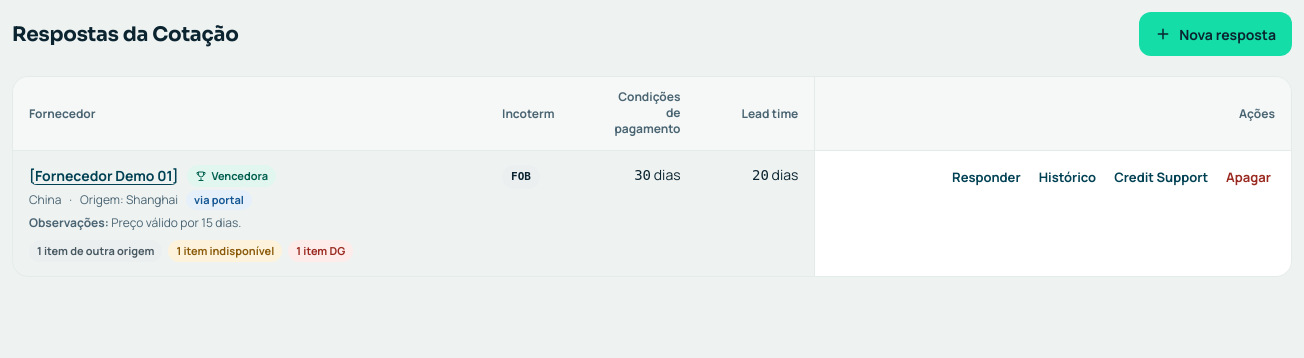
Scenario: RespostasTab: visual (Suite COMEX, F7) › feedback com papel: sucesso em role=status e erro em role=alert
Click the button "Apagar" at (1249, 177), box [1218,159,1279,195]
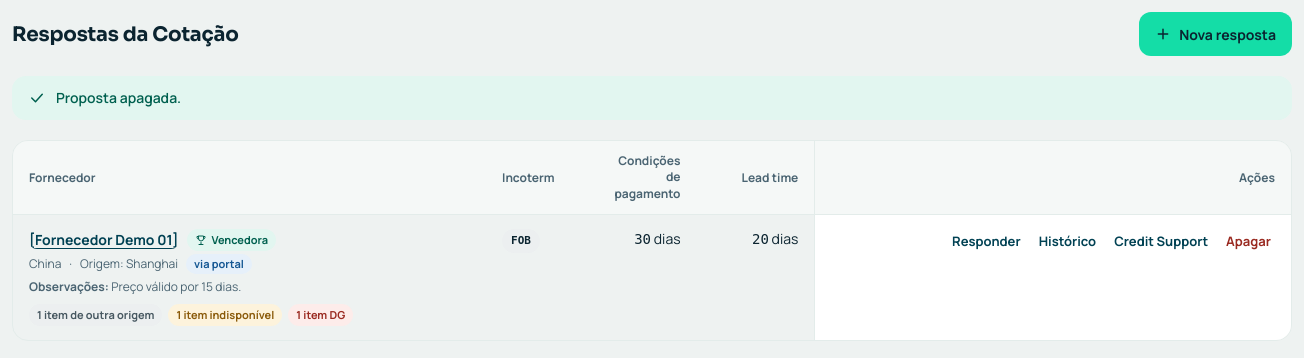
Expected: the message reads "Proposta apagada.", [56,88,181,107]
Click the button "Apagar" at (1249, 241), box [1218,223,1279,259]
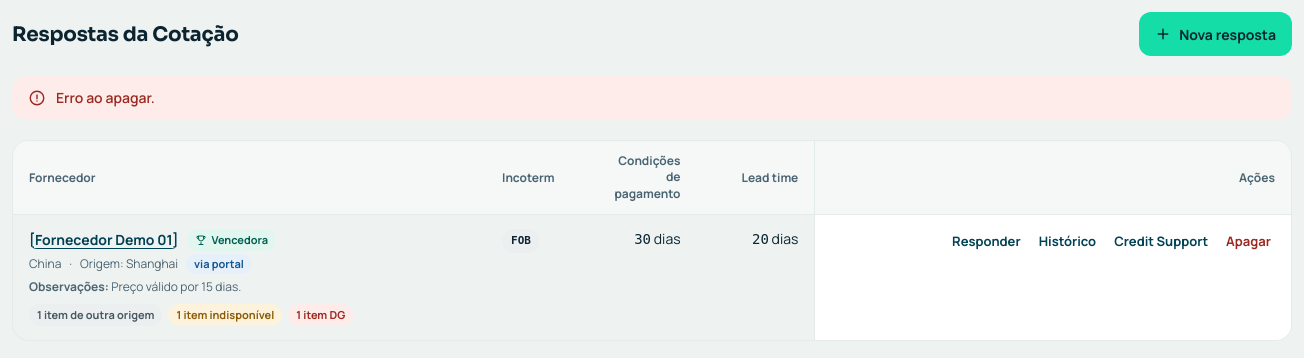
Expected: the message reads "Erro ao apagar.", [56,88,155,107]
